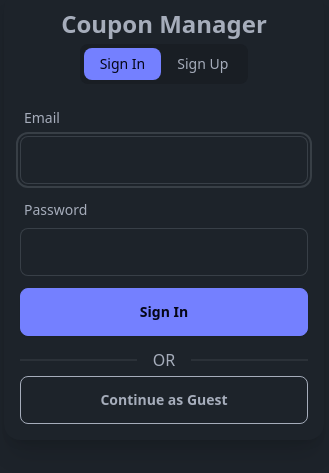
LoginForm › Form Validation - Sign In Mode › should show email validation error for invalid email format
In the field labelled "Email": (164, 160) [20,136,308,184], type "invalid-email"
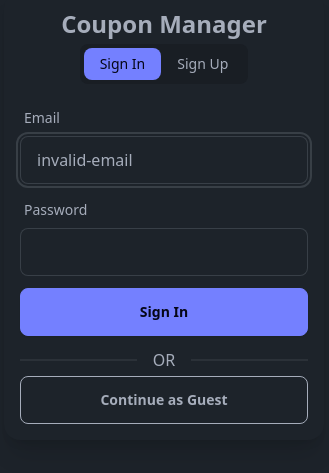
Press Tab
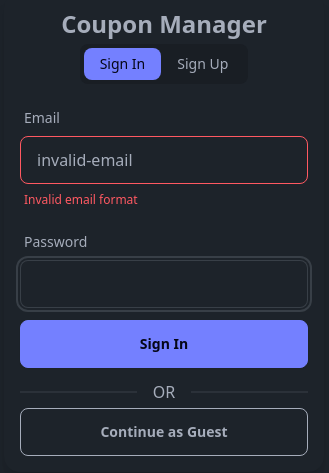
Expected: the text "Invalid email format" is shown, [24,192,138,208]
